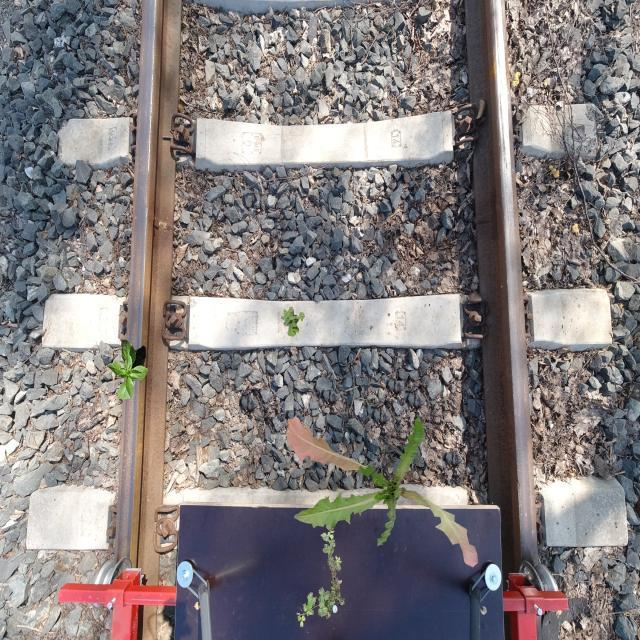Plant: (286, 416, 478, 568), (296, 524, 344, 628), (107, 340, 149, 400), (281, 307, 305, 338)
